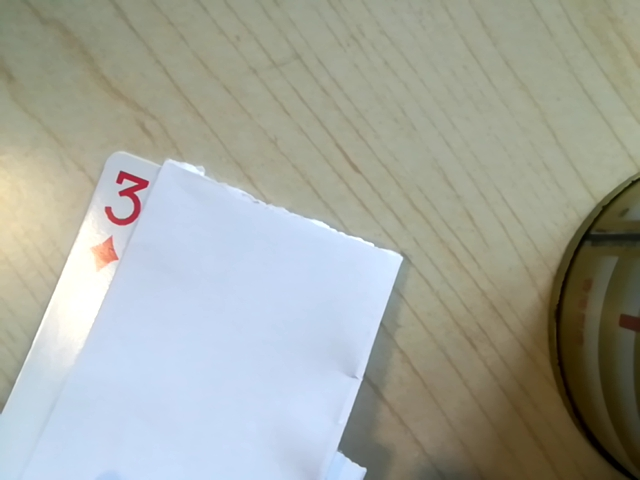fk 3: (91, 167, 156, 269)
